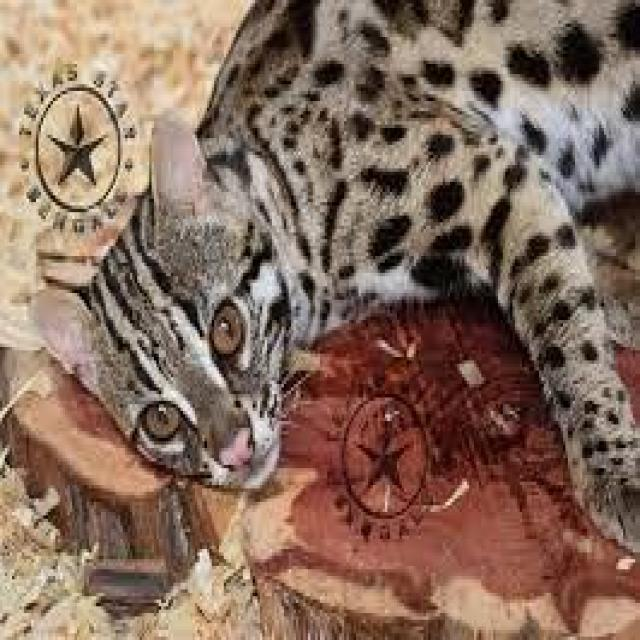leopard: (70, 67, 586, 541)
